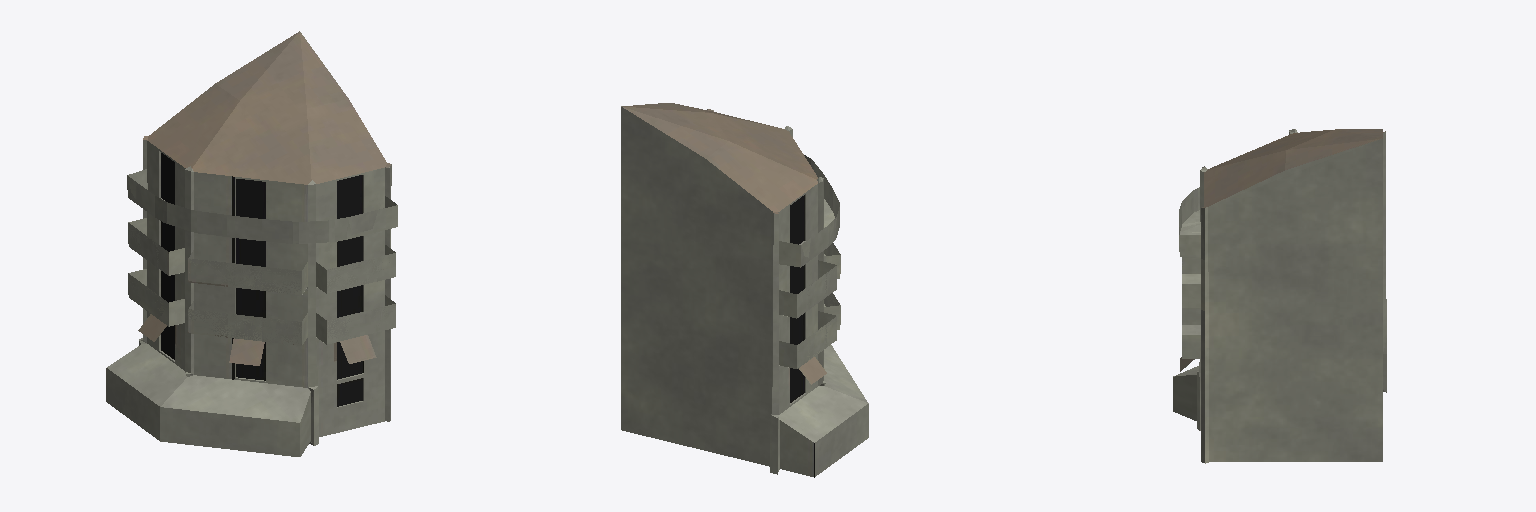
3 views of the same model, side by side, from view 1: azimuth 30°, elevation 25°; view 2: azimuth 150°, elevation 25°; view 3: azimuth 270°, elevation 25° (orthographic).
Parts seen in each view (by area): view 1: Cube4; view 2: Cube4; view 3: Cube4.
Part boxes in pixels (x1,y1,x2,y2): Cube4: (106,31,397,456); Cube4: (621,103,868,477); Cube4: (1173,129,1386,463).
Size of the model in its own units: 25.35 by 40.47 by 24.04.
1 materials, 1 textured.